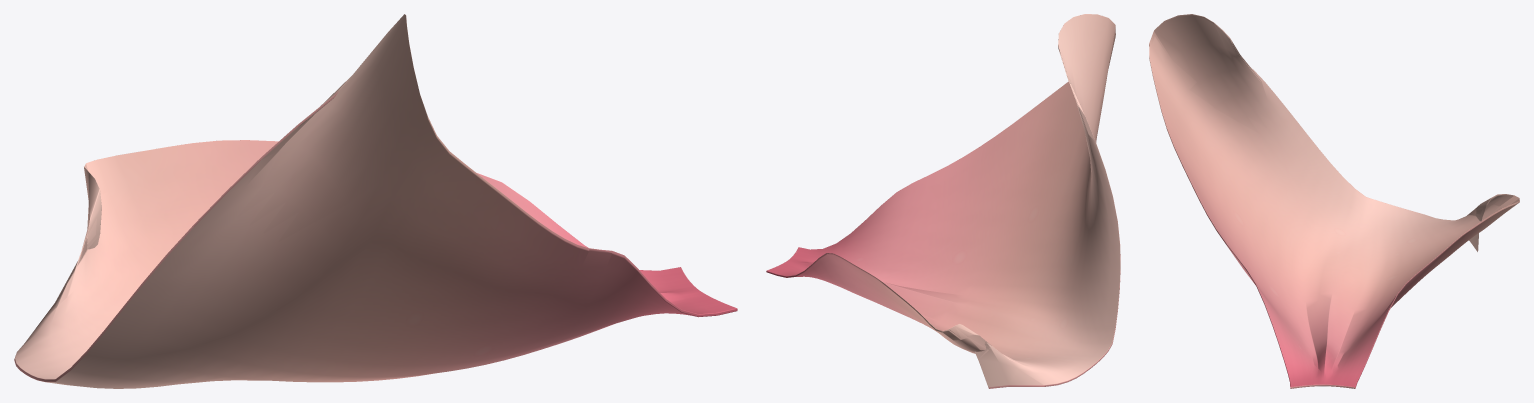
Rendered from papri2.glb.
3 renders of one model, left to right at view 1: azimuth 30°, elevation 25°; view 2: azimuth 150°, elevation 25°; view 3: azimuth 270°, elevation 25°, orthographic. The views are drawn at different scales.
Parts seen in each view (by area): view 1: Papri_02; view 2: Papri_02; view 3: Papri_02.
Part boxes in pixels (x1,y1,x2,y2): Papri_02: (14, 14, 737, 388); Papri_02: (766, 14, 1120, 388); Papri_02: (1149, 14, 1519, 388).
Bounding box in the file's own units: 0.9764 × 0.7026 × 0.884.
1 material, 1 textured.
